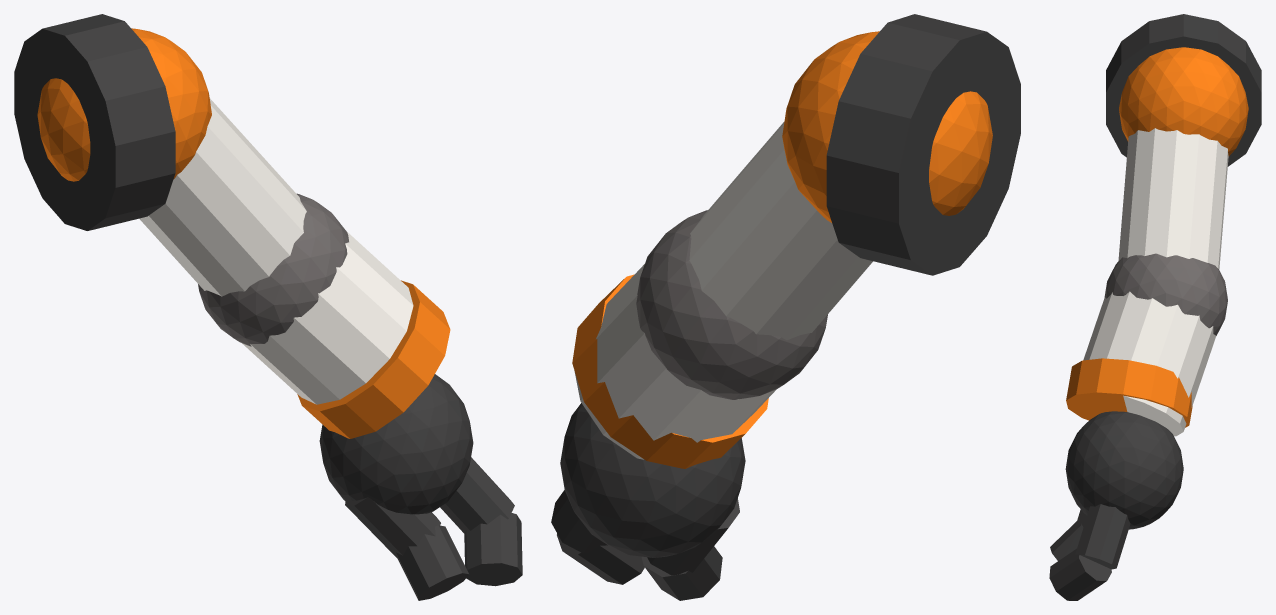
File: robot_arm_r.obj
3 views of the same model, side by side, from view 1: azimuth 30°, elevation 25°; view 2: azimuth 150°, elevation 25°; view 3: azimuth 270°, elevation 25° (orthographic). The views are drawn at different scales.
Parts seen in each view (by area): view 1: dark, white, orange, grey; view 2: dark, white, orange, grey; view 3: dark, white, orange, grey.
Boxes of the visible parts, x1,y1,x2,y2 form: dark: [14, 14, 522, 600]; white: [139, 98, 413, 404]; orange: [37, 28, 450, 438]; grey: [198, 193, 348, 346]; dark: [551, 14, 1020, 600]; white: [574, 122, 872, 459]; orange: [572, 31, 992, 468]; grey: [636, 210, 827, 399]; dark: [1049, 14, 1261, 600]; white: [1083, 128, 1228, 436]; orange: [1066, 47, 1248, 427]; grey: [1104, 253, 1227, 335].
Bounding box in the file's own units: 0.6143 × 0.8434 × 0.3591.
